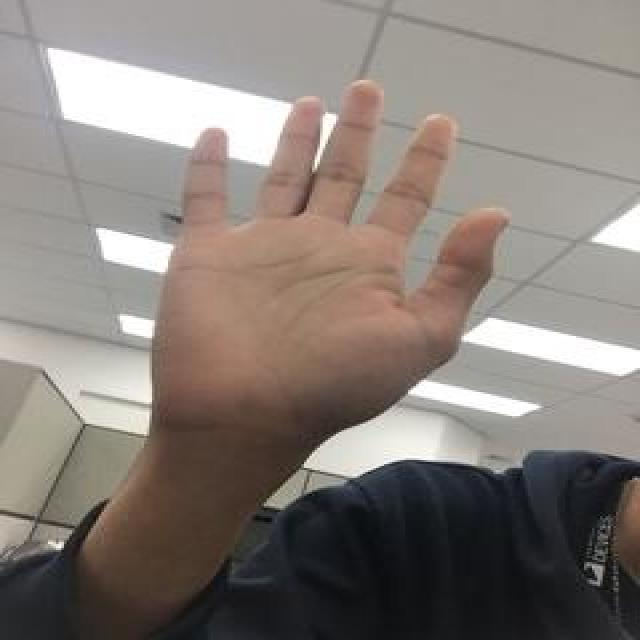no-gloves: (144, 76, 512, 430)
